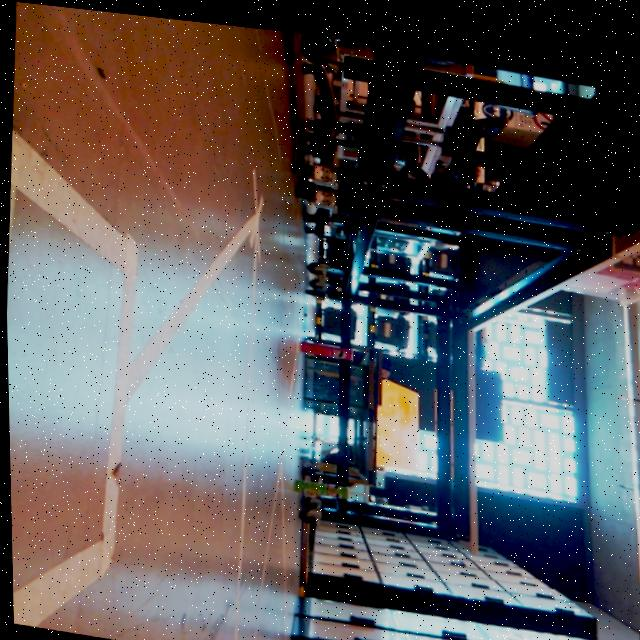greenpringles: (273, 462, 355, 504)
redpringles: (288, 319, 371, 366)
